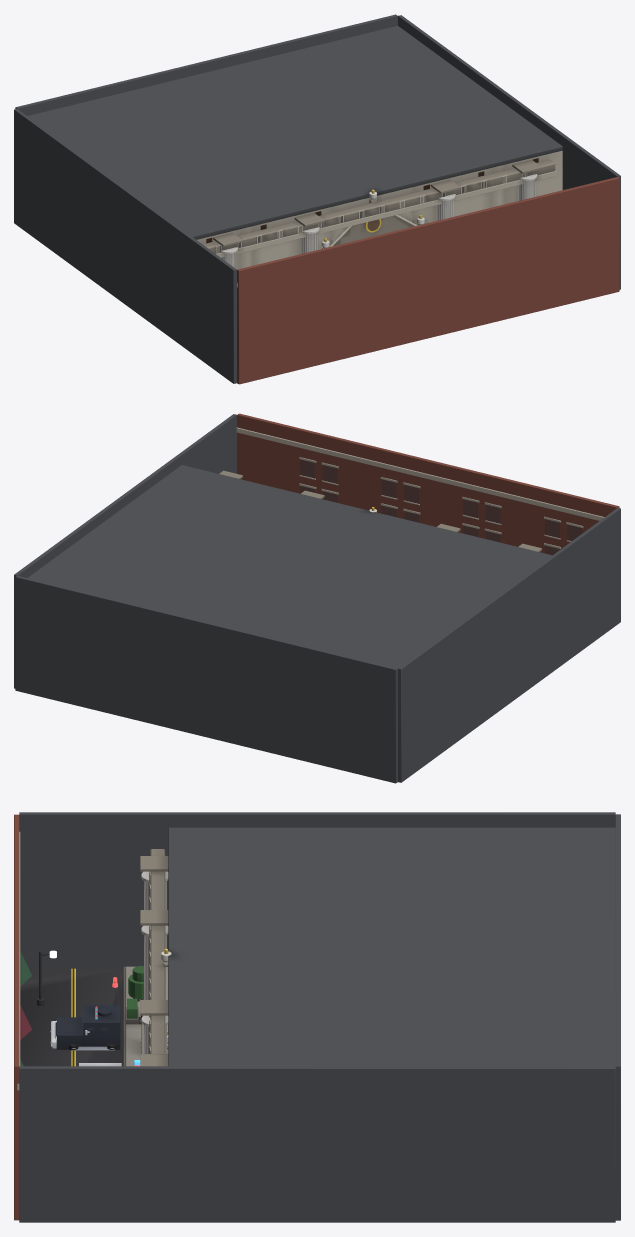
File: hd_bank.glb
3 views of the same model, one above another, from view 1: azimuth 30°, elevation 25°; view 2: azimuth 150°, elevation 25°; view 3: azimuth 270°, elevation 25° (orthographic). The views are drawn at different scales.
Parts seen in each view (by area): view 1: Ceiling_Roof_Slab, Boundary_Wall_South_Brick, Boundary_Wall_West, Boundary_Wall_North, Boundary_Wall_East, Entablature_Frieze, Entablature_Architrave, Facade_Wall_West_Door_E, Facade_Wall_East, Facade_Wall_East_Door_E, Pediment_Tympanum, Facade_Wall_Upper_Lintel; view 2: Ceiling_Roof_Slab, Boundary_Wall_North, Boundary_Wall_West, Boundary_Wall_South_Brick, Boundary_Wall_East, South_Street_Cornice_Detail; view 3: Ceiling_Roof_Slab, Boundary_Wall_East, Boundary_Wall_West, Floor_Street_Asphalt, Entablature_Frieze, Boundary_Wall_North, Boundary_Wall_South_Brick, SWAT_Van_Cab_Roof, Sidewalk_Slab, SWAT_Van_Hood.
Part boxes in pixels (x1,y1,x2,y2): Ceiling_Roof_Slab: [27, 25, 562, 239]; Boundary_Wall_South_Brick: [237, 177, 619, 384]; Boundary_Wall_West: [14, 109, 236, 383]; Boundary_Wall_North: [15, 14, 397, 115]; Boundary_Wall_East: [398, 15, 620, 289]; Entablature_Frieze: [203, 159, 555, 253]; Entablature_Architrave: [216, 170, 555, 257]; Facade_Wall_West_Door_E: [253, 207, 331, 265]; Facade_Wall_East: [412, 168, 491, 224]; Facade_Wall_East_Door_E: [505, 150, 562, 204]; Pediment_Tympanum: [334, 216, 413, 245]; Facade_Wall_Upper_Lintel: [331, 187, 413, 243]; Ceiling_Roof_Slab: [28, 465, 551, 668]; Boundary_Wall_North: [15, 575, 397, 783]; Boundary_Wall_West: [398, 508, 620, 782]; Boundary_Wall_South_Brick: [237, 413, 619, 555]; Boundary_Wall_East: [14, 414, 236, 688]; South_Street_Cornice_Detail: [236, 427, 604, 520]; Ceiling_Roof_Slab: [168, 827, 615, 1066]; Boundary_Wall_East: [19, 1066, 615, 1222]; Boundary_Wall_West: [19, 812, 615, 968]; Floor_Street_Asphalt: [20, 968, 123, 1066]; Entablature_Frieze: [150, 849, 165, 1053]; Boundary_Wall_North: [615, 814, 620, 1220]; Boundary_Wall_South_Brick: [14, 814, 19, 1220]; SWAT_Van_Cab_Roof: [83, 1005, 120, 1049]; Sidewalk_Slab: [125, 966, 143, 1066]; SWAT_Van_Hood: [56, 1017, 83, 1049].
Size of what is drawn, in the model's own units: 171 by 48.15 by 171.
